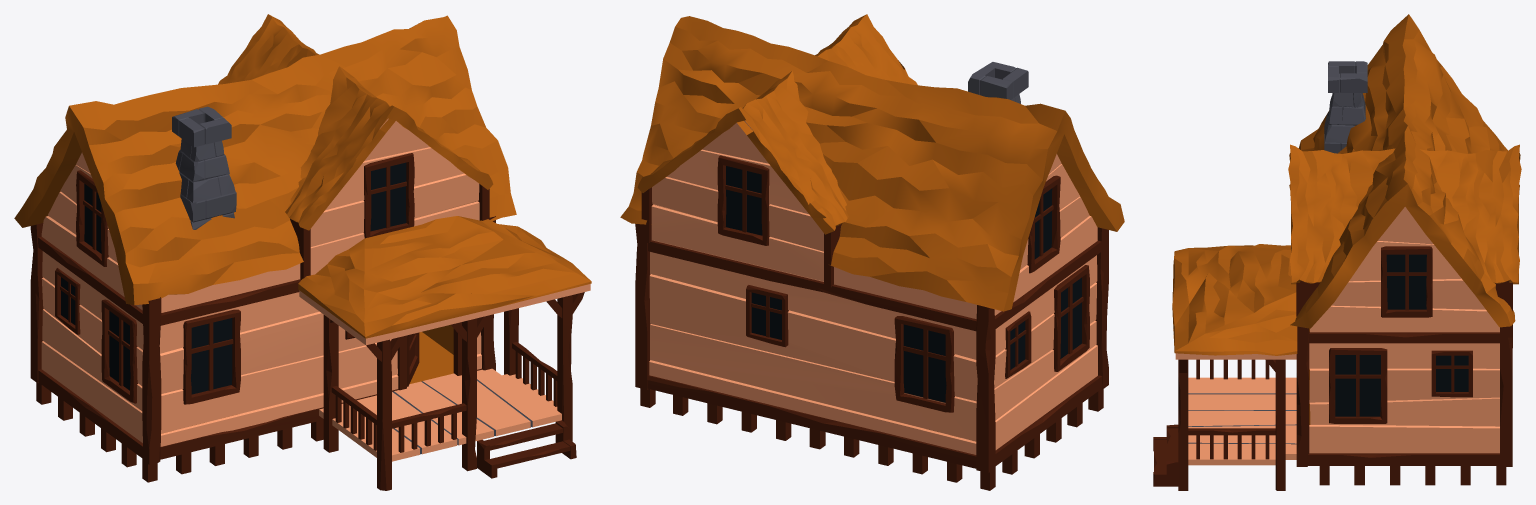
The model's file is House_1.fbx.
3 views of the same model, side by side, from view 1: azimuth 30°, elevation 25°; view 2: azimuth 150°, elevation 25°; view 3: azimuth 270°, elevation 25° (orthographic). The views are drawn at different scales.
Parts seen in each view (by area): view 1: House_1; view 2: House_1; view 3: House_1.
Part boxes in pixels (<box>): House_1: <box>14,14,591,490</box>; House_1: <box>620,14,1124,490</box>; House_1: <box>1153,14,1521,490</box>.
Bounding box in the file's own units: 260 × 211 × 227.
